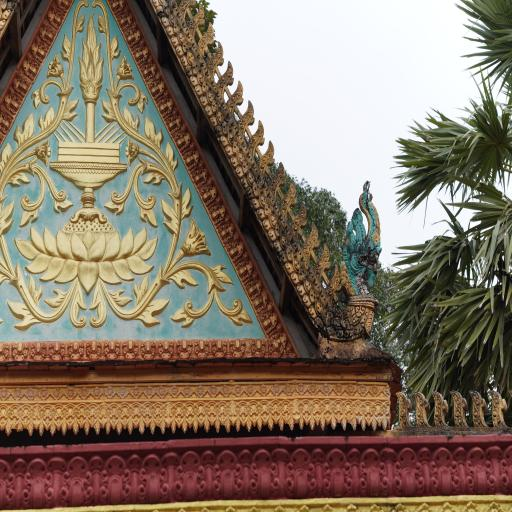hoa: (250, 444, 292, 506), (395, 441, 437, 498), (289, 442, 329, 500), (211, 449, 252, 503), (172, 451, 216, 501), (464, 443, 504, 498), (137, 452, 180, 503), (26, 459, 67, 511), (430, 444, 469, 498), (362, 445, 400, 499), (66, 458, 106, 508), (326, 442, 363, 496), (102, 459, 142, 507), (0, 456, 33, 509), (180, 217, 215, 264), (112, 53, 137, 86), (371, 400, 393, 432), (31, 142, 59, 167), (160, 402, 178, 438), (104, 405, 124, 437), (116, 402, 134, 437), (257, 400, 275, 434), (40, 403, 58, 437), (49, 404, 68, 436), (46, 49, 63, 84), (245, 399, 262, 434), (182, 403, 200, 436), (128, 403, 146, 436), (268, 401, 286, 433), (138, 404, 156, 436), (94, 404, 112, 436), (84, 405, 102, 437), (28, 402, 44, 438), (151, 401, 167, 436), (215, 400, 232, 432), (172, 402, 188, 436), (62, 402, 78, 436), (7, 406, 24, 438), (278, 400, 296, 430), (17, 405, 35, 435), (226, 402, 242, 435), (204, 400, 220, 433), (503, 440, 512, 497), (124, 134, 140, 166), (73, 404, 89, 436), (298, 402, 316, 430), (235, 401, 251, 432), (330, 400, 347, 429), (321, 399, 337, 429), (308, 399, 324, 428), (288, 399, 304, 428), (351, 400, 365, 431), (194, 401, 208, 432), (341, 402, 357, 428), (361, 402, 376, 428), (206, 382, 220, 402), (114, 384, 130, 400), (256, 381, 272, 397), (90, 384, 104, 402), (141, 383, 155, 401), (75, 384, 90, 400), (179, 382, 194, 398), (102, 384, 116, 401), (128, 383, 142, 400), (367, 382, 381, 399), (49, 386, 63, 402), (62, 385, 76, 401), (282, 380, 296, 396), (0, 406, 8, 434), (10, 386, 24, 401), (155, 385, 169, 400), (37, 387, 50, 403), (1, 385, 11, 405), (193, 383, 207, 397), (318, 382, 332, 396), (24, 386, 37, 401), (333, 383, 348, 396), (356, 380, 368, 396), (167, 384, 180, 398), (231, 383, 244, 397), (270, 382, 284, 395), (294, 382, 308, 395), (306, 381, 319, 395), (220, 384, 232, 399), (244, 383, 256, 397), (345, 382, 357, 396), (380, 382, 391, 397)
la: (138, 296, 171, 332), (87, 279, 109, 332), (5, 296, 32, 334), (167, 268, 201, 294), (64, 84, 82, 130), (13, 113, 34, 151), (99, 89, 118, 130), (1, 188, 15, 242), (142, 112, 164, 146), (70, 284, 86, 328), (307, 292, 332, 320), (211, 262, 236, 290), (231, 152, 260, 176), (46, 281, 68, 311), (102, 195, 124, 224), (59, 29, 76, 66), (6, 169, 32, 193), (228, 301, 250, 329), (28, 271, 46, 305), (262, 207, 289, 228), (218, 128, 246, 148), (296, 270, 319, 294), (250, 186, 275, 208), (138, 334, 157, 362), (214, 113, 236, 137), (0, 136, 12, 180), (109, 286, 130, 311), (155, 336, 176, 361), (207, 102, 233, 122), (17, 204, 40, 226), (180, 186, 194, 222), (227, 334, 245, 362), (48, 338, 67, 364), (38, 106, 56, 133), (286, 251, 308, 273), (241, 168, 264, 189), (272, 230, 296, 250), (245, 178, 269, 198), (226, 137, 250, 157), (9, 340, 29, 364), (174, 336, 194, 360), (158, 0, 183, 19), (289, 262, 315, 280), (201, 96, 230, 112), (196, 74, 218, 95), (171, 307, 193, 328), (302, 278, 322, 301), (198, 84, 221, 104), (181, 45, 204, 65), (255, 197, 279, 216), (119, 336, 138, 360), (122, 104, 138, 132), (168, 27, 194, 44), (52, 195, 71, 218), (230, 146, 254, 164), (189, 66, 213, 84), (164, 143, 180, 170), (26, 338, 44, 362), (194, 338, 212, 362), (132, 276, 149, 301), (268, 336, 287, 358), (174, 40, 200, 56), (102, 337, 120, 360), (184, 54, 208, 71), (68, 338, 85, 362), (247, 336, 265, 358), (212, 336, 228, 360), (279, 240, 298, 260), (86, 335, 100, 362), (268, 222, 291, 238), (161, 10, 186, 24), (168, 20, 191, 34), (96, 12, 109, 36), (136, 87, 147, 113), (109, 31, 118, 61), (75, 10, 85, 35), (32, 88, 43, 110)
lua: (279, 178, 302, 223), (448, 386, 470, 432), (245, 114, 265, 161), (487, 386, 508, 430), (256, 138, 278, 180), (468, 385, 488, 431), (395, 384, 414, 431), (237, 96, 258, 138), (325, 260, 344, 306), (301, 219, 321, 261), (204, 36, 226, 74), (266, 153, 285, 197), (224, 74, 245, 113), (215, 52, 234, 94), (429, 388, 447, 432), (291, 199, 309, 238), (414, 386, 430, 429), (315, 244, 332, 282), (198, 20, 216, 55), (190, 4, 207, 39), (179, 0, 196, 19)
than: (324, 172, 390, 342)
